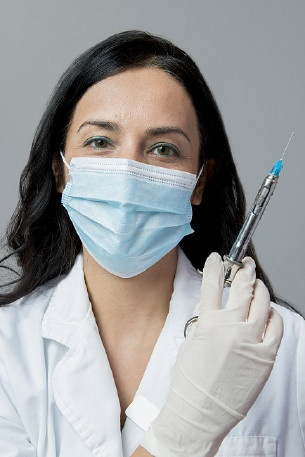Mask: (59, 114, 217, 271)
